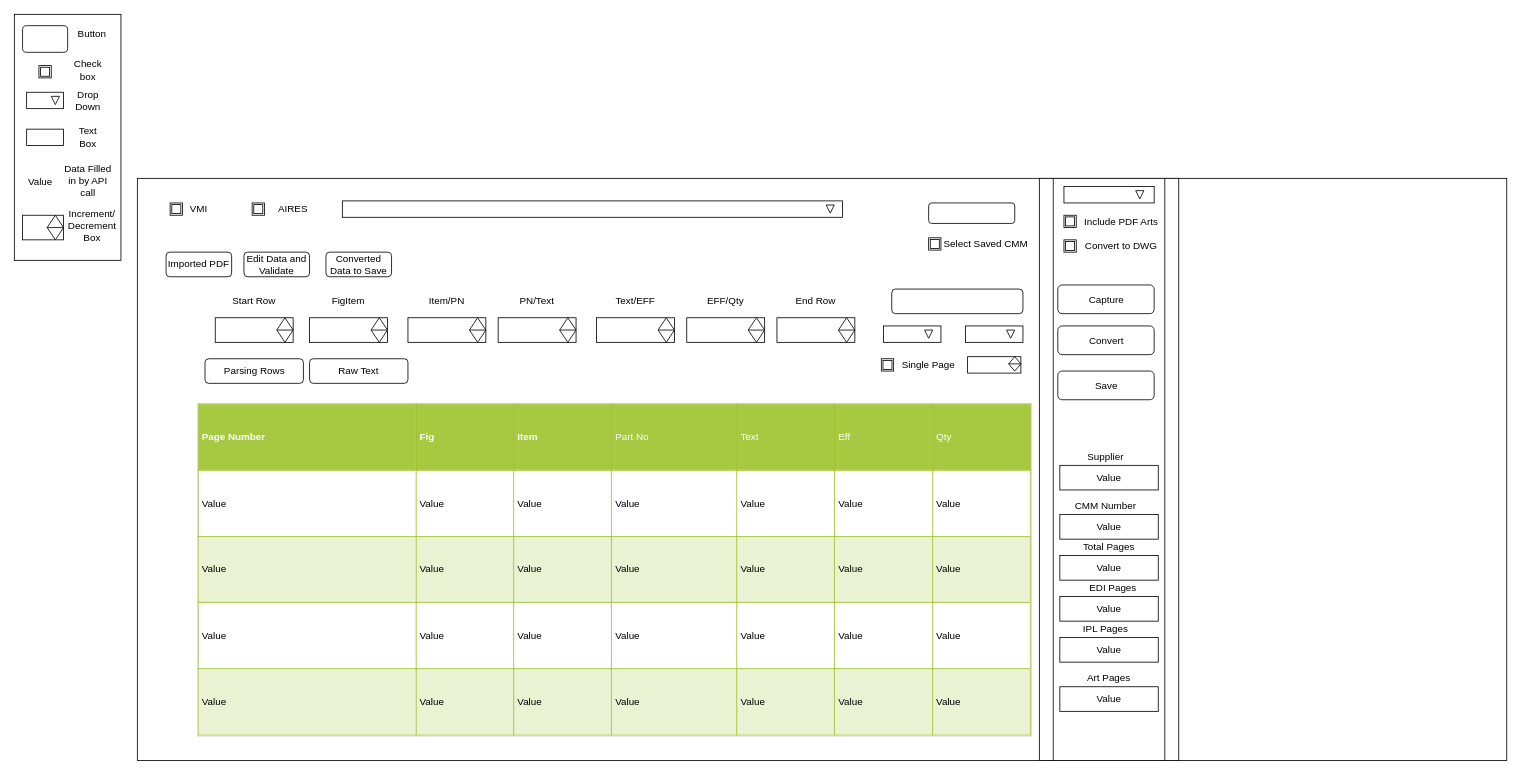
Image size: 1521x775. Some labels were removed from this diagram. Here are the shapes that lost their labels. From the top down, the centre of each, then its label:
At pixel 971 212: "Select CMM".
At pixel 957 301: "Extend Chages".
